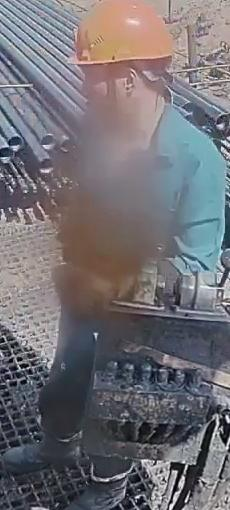helmet: (65, 0, 174, 90)
vest: (73, 103, 230, 269)
